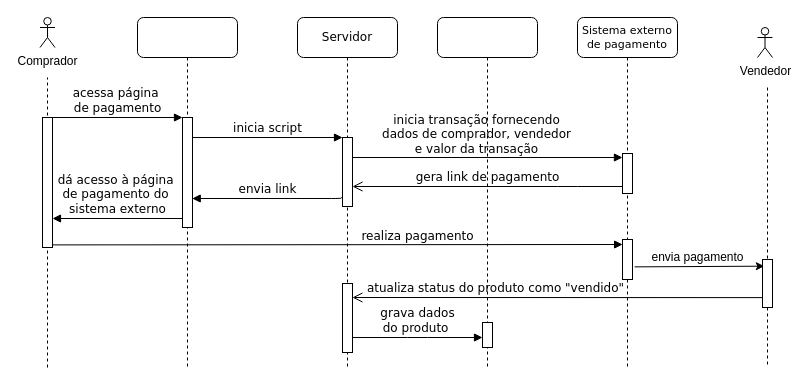
The diagram is 808 pixels wide and 386 high, and some of its shapes have lost their labels. The shapes that lost their labels are listed below. From the top down, each one's box as (x1, y1, x2, y2) in pixels, then its label:
(136, 16, 238, 368): Client
(436, 16, 538, 368): Banco de Dados
